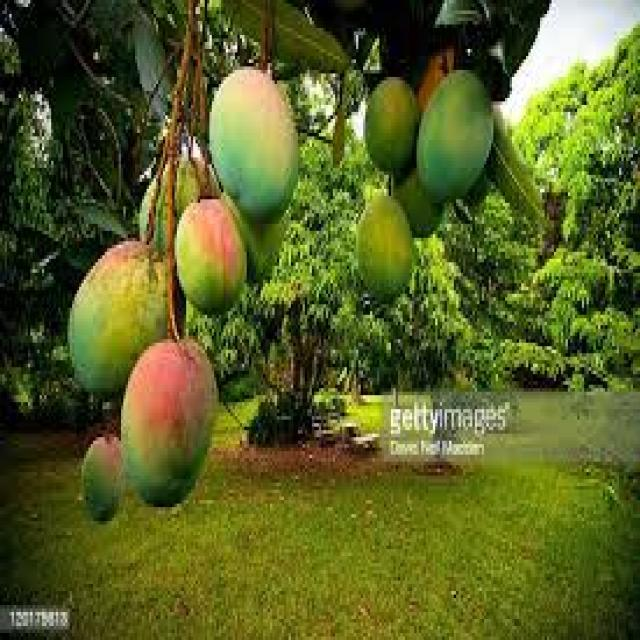mango: (119, 336, 216, 514)
